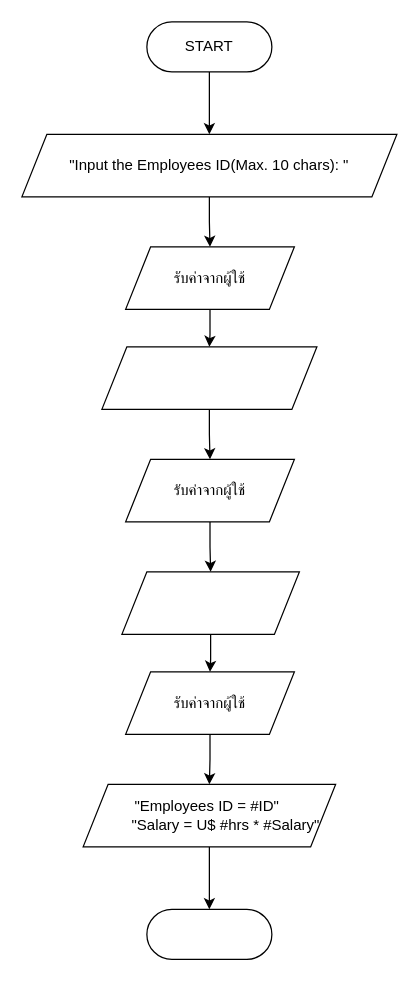
This 419x981 diagram has some shape labels left out. The centre of each missing label's shape, as x and y in pixels:
"Input the working hrs: ": (x=209, y=377)
"Salary amount/hr: ": (x=210, y=602)
END: (x=209, y=933)
